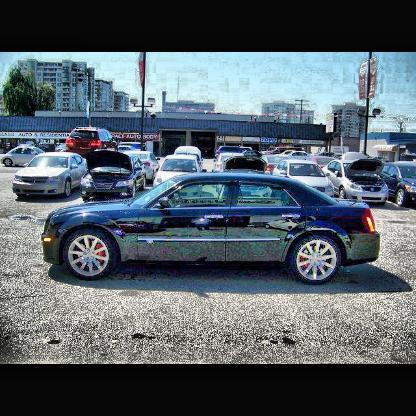Chrysler 300 SRT-8 2010: (41, 172, 383, 290)
